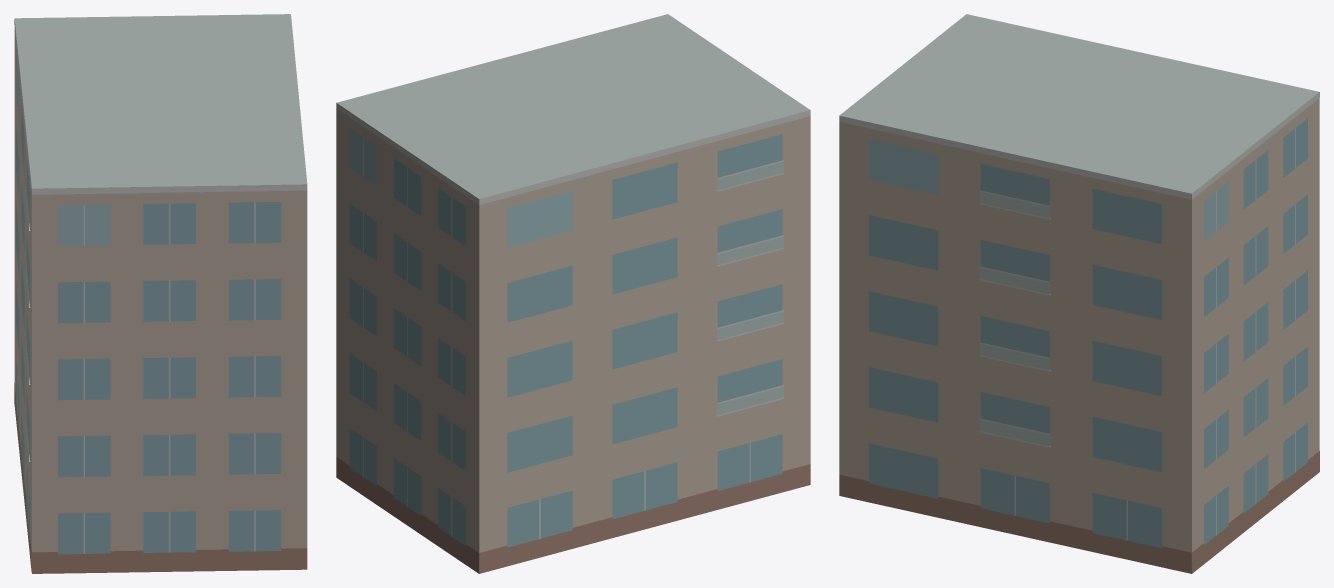
Rendered from survey-upis-32659896.glb.
3 renders of one model, left to right at view 1: azimuth 30°, elevation 25°; view 2: azimuth 150°, elevation 25°; view 3: azimuth 270°, elevation 25°, orthographic. The views are drawn at different scales.
Parts seen in each view (by area): view 1: survey-upis-32659896.tmp; view 2: survey-upis-32659896.tmp; view 3: survey-upis-32659896.tmp.
Part boxes in pixels (bbox=[...]): survey-upis-32659896.tmp: bbox=[14, 14, 307, 573]; survey-upis-32659896.tmp: bbox=[336, 14, 810, 573]; survey-upis-32659896.tmp: bbox=[839, 14, 1319, 573].
Bounding box in the file's own units: 15.47 × 15.25 × 17.48.
